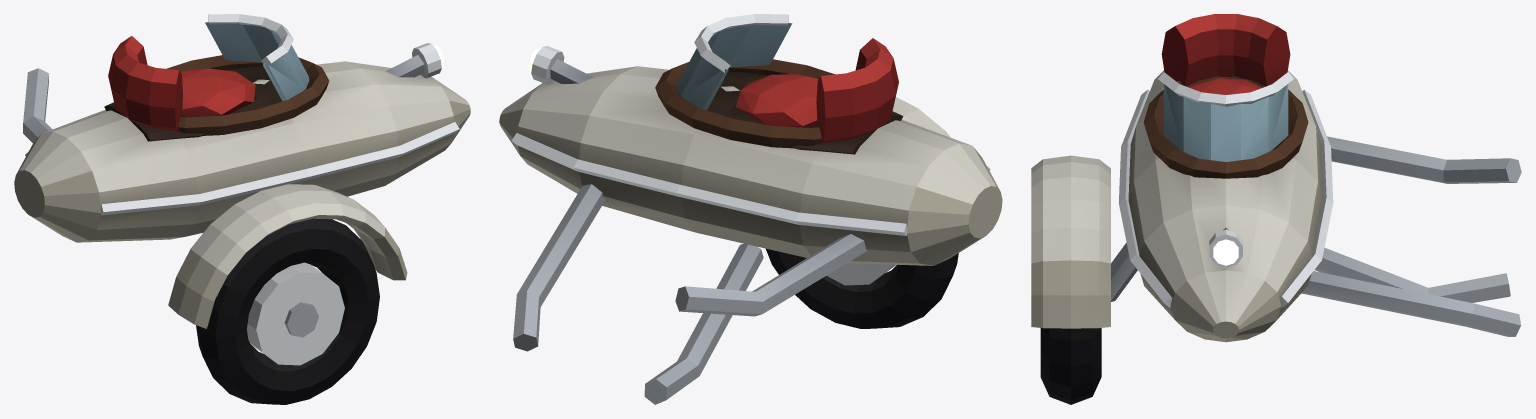
The model's file is gd_motorcycle_sidecar.glb.
3 views of the same model, side by side, from view 1: azimuth 30°, elevation 25°; view 2: azimuth 150°, elevation 25°; view 3: azimuth 270°, elevation 25° (orthographic). The views are drawn at different scales.
Visible parts, largest first — view 1: base; view 2: base; view 3: base.
Boxes of the visible parts, x1=… form: base: x1=14, y1=14, x2=470, y2=404; base: x1=499, y1=14, x2=1002, y2=404; base: x1=1031, y1=14, x2=1521, y2=404.
Bounding box in the file's own units: 0.4922 × 0.3346 × 0.4431.
